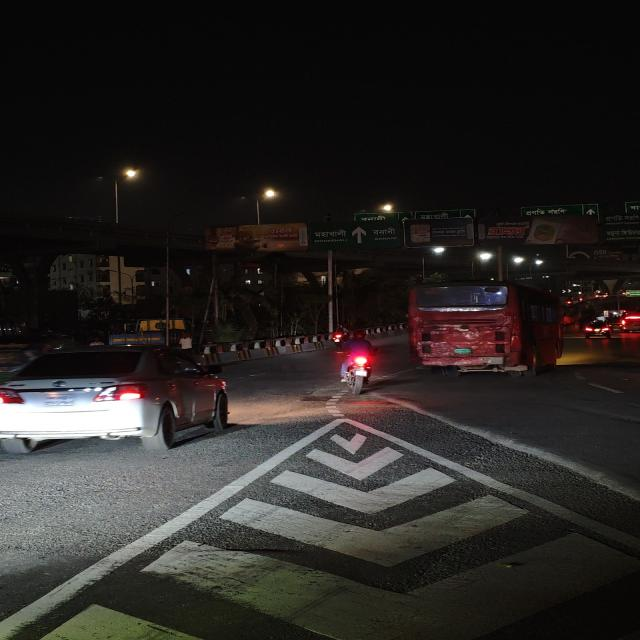bus: (404, 281, 568, 379)
car: (0, 342, 240, 462), (581, 318, 613, 340)
motorcycle: (326, 326, 383, 394)
